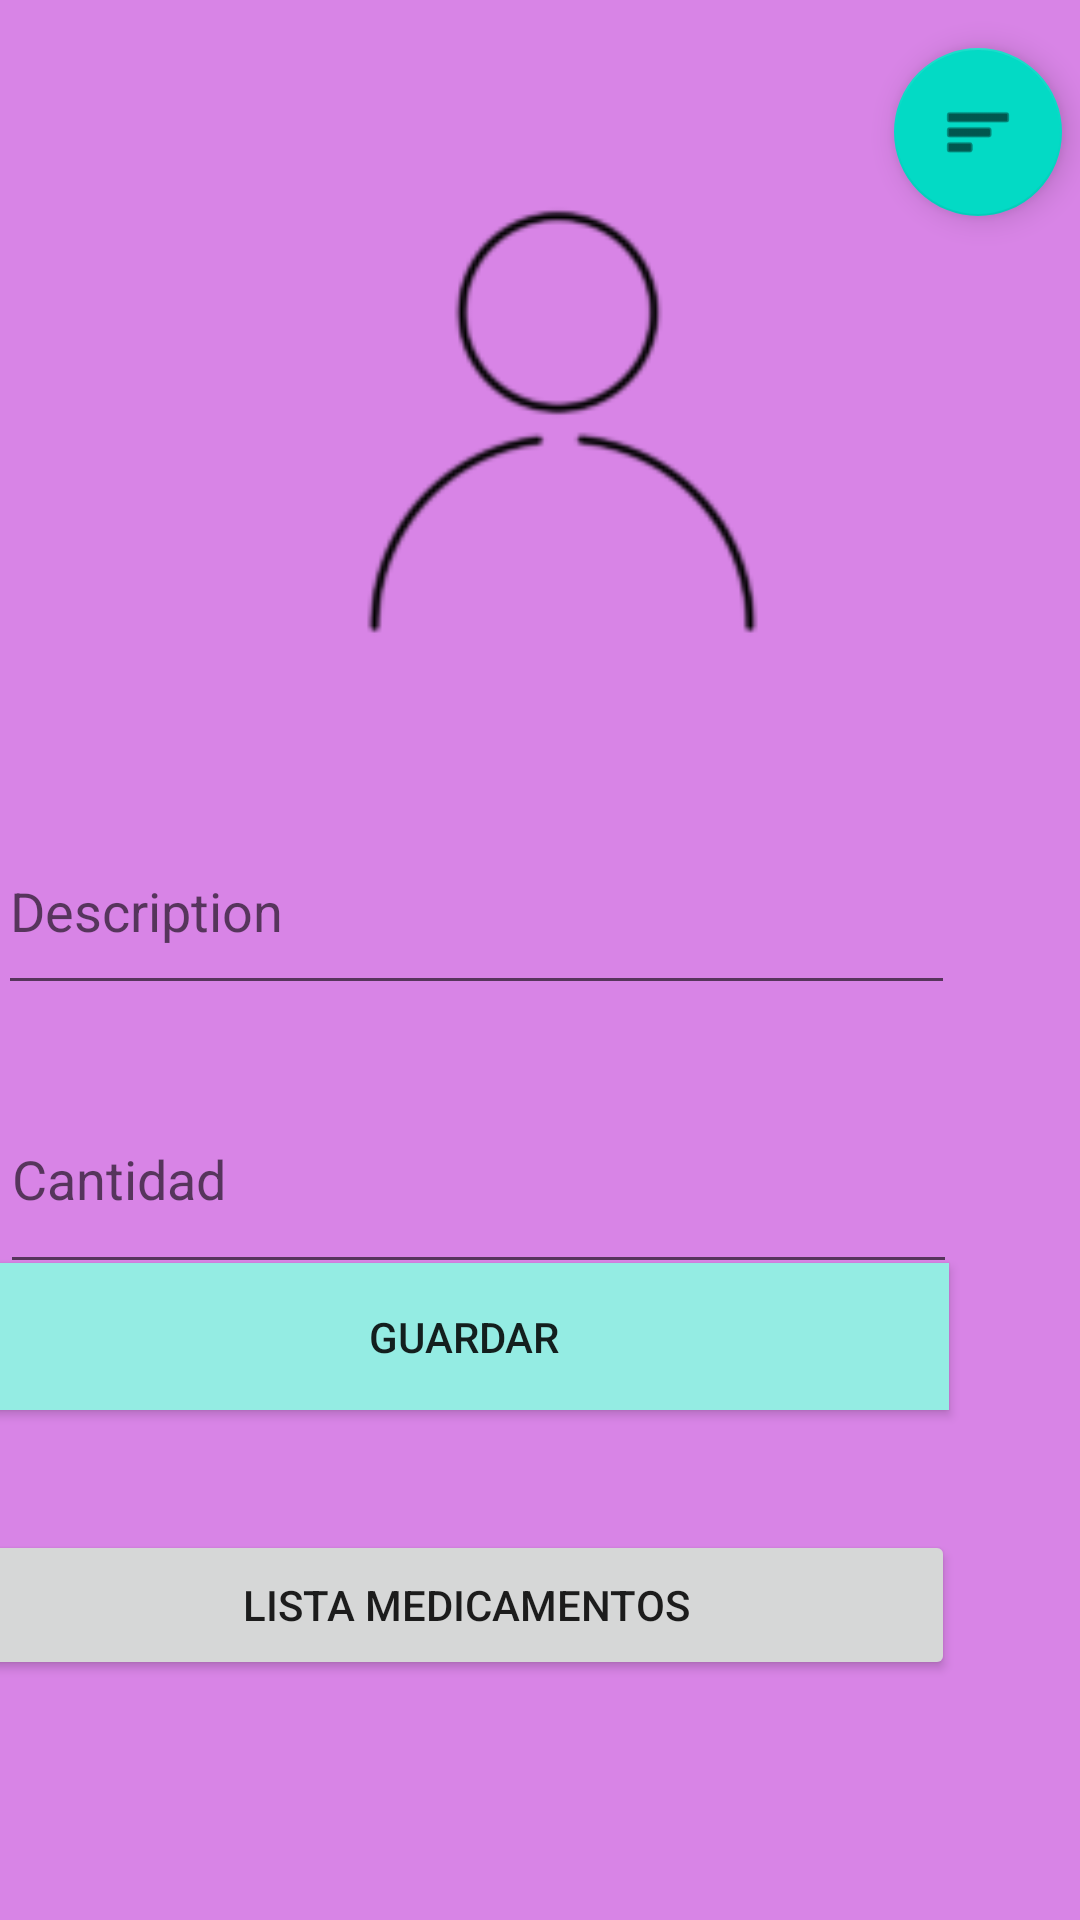

Named icons in this screenshot (1080*1920) and their bounding boxes, (x1, y1, x2, y2):
sort by size: (894, 48, 1062, 216)
